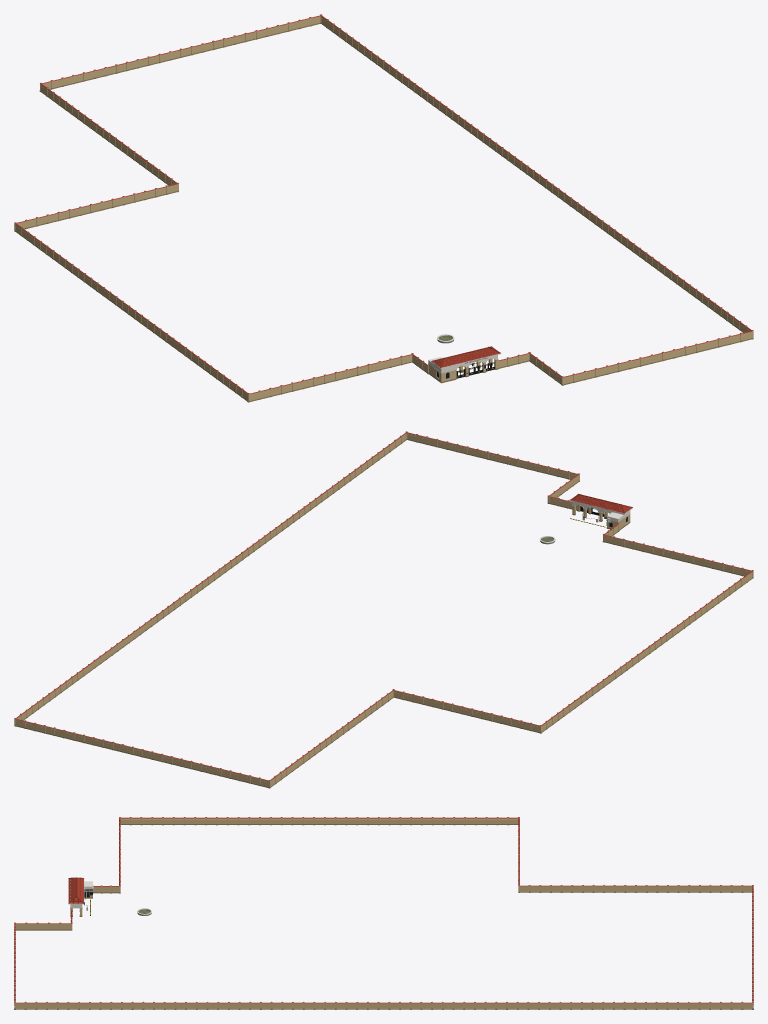
File: campus_gate_fountain.glb
3 views of the same model, one above another, from view 1: azimuth 30°, elevation 25°; view 2: azimuth 150°, elevation 25°; view 3: azimuth 270°, elevation 25° (orthographic). The views are drawn at different scales.
Parts seen in each view (by area): view 1: KMA_Wall, KMA_Roof; view 2: KMA_Wall; view 3: KMA_Wall, KMA_Roof.
Boxes of the visible parts, <box> form: KMA_Wall: <box>14,14,753,402</box>; KMA_Roof: <box>431,346,501,368</box>; KMA_Wall: <box>14,431,753,788</box>; KMA_Wall: <box>14,817,753,1009</box>; KMA_Roof: <box>68,877,84,904</box>.
Bounding box in the file's own units: 147 × 6.85 × 248.
21 materials, 1 textured.
